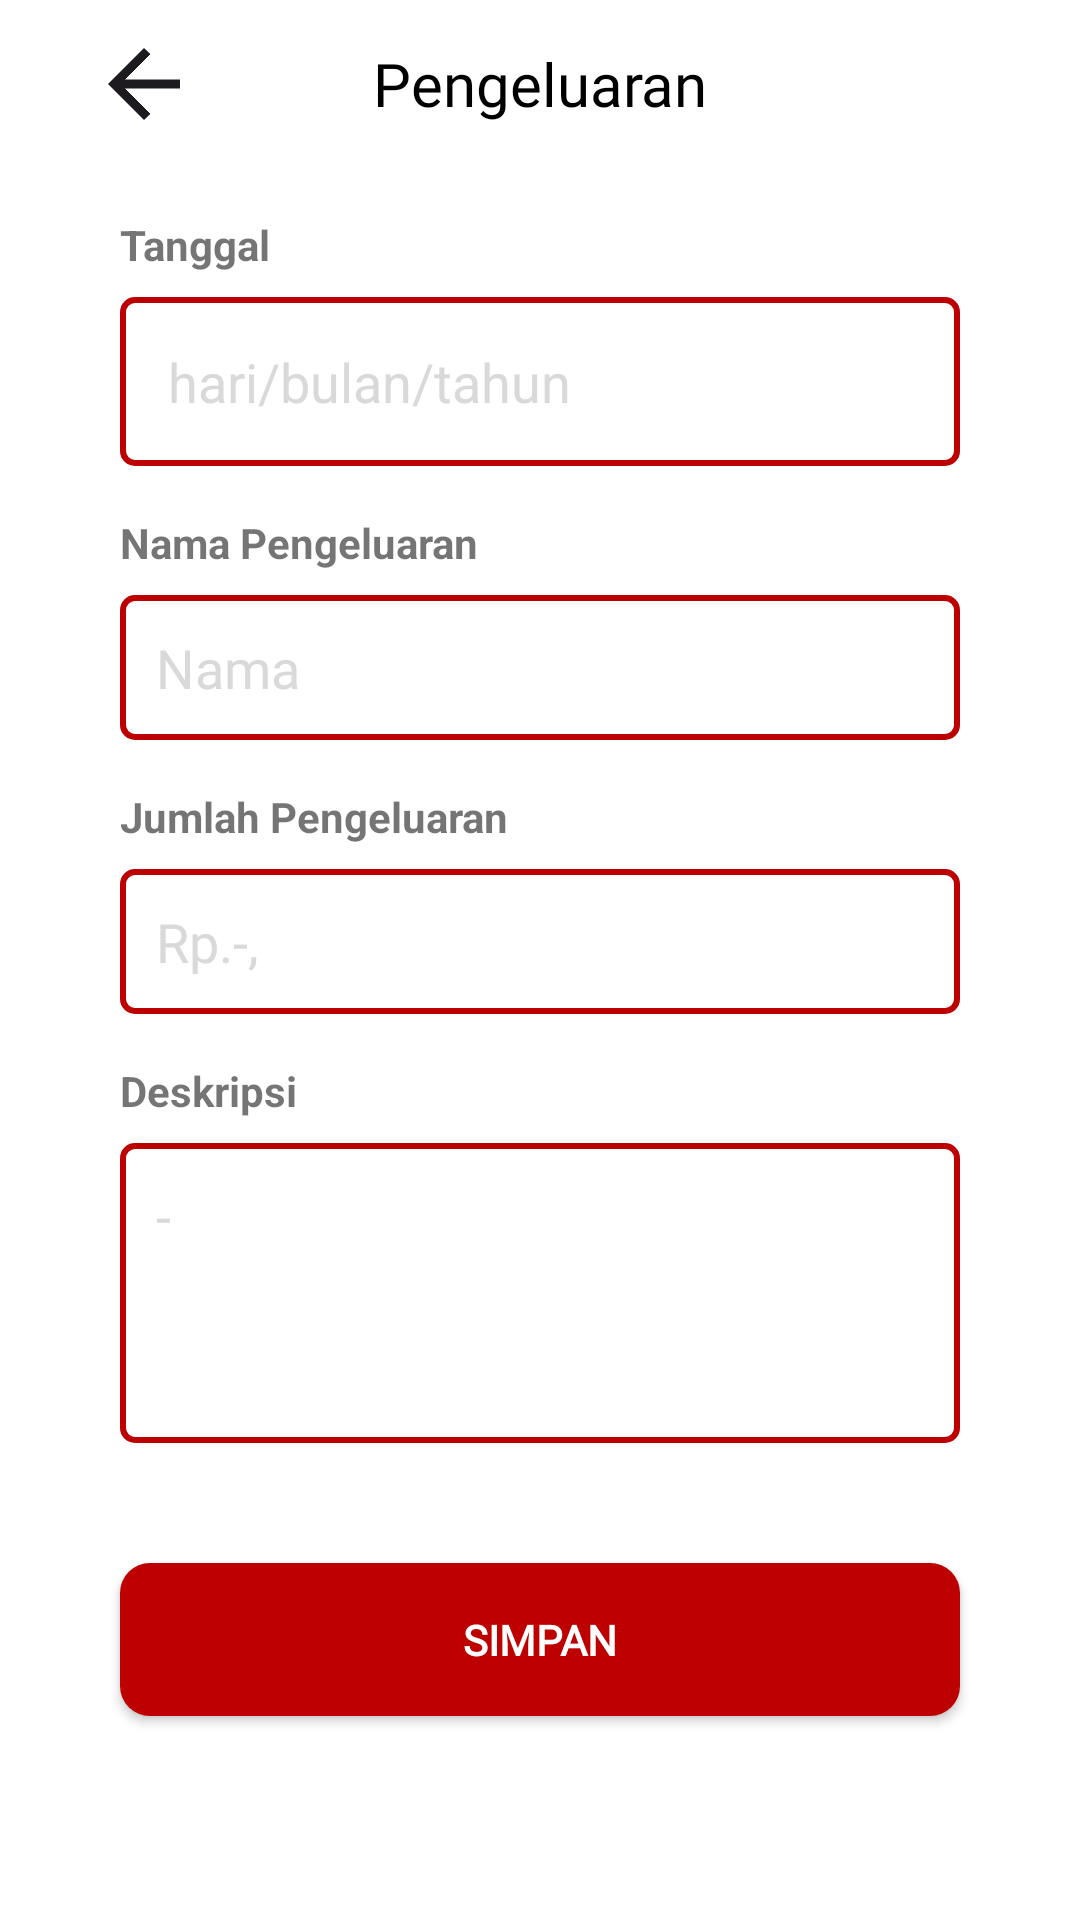

Point at icon controls on the screen. Image size 1080×1920, points as point (x, y).
Back button: point (144, 84)
